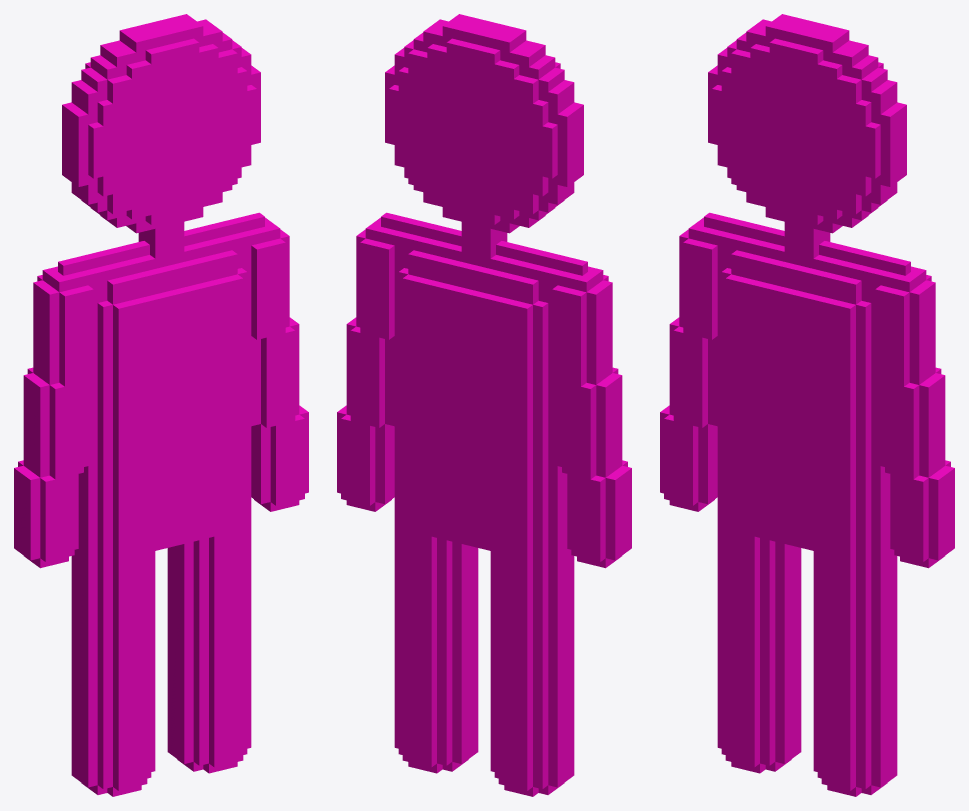
File: teapot-1.obj
The picture shows the model from 3 angles, left to right: view 1: azimuth 30°, elevation 25°; view 2: azimuth 150°, elevation 25°; view 3: azimuth 330°, elevation 25°; orthographic projection.
Size of the model in its own units: 2.9 by 7.4 by 0.7.
1 material, 1 textured.
